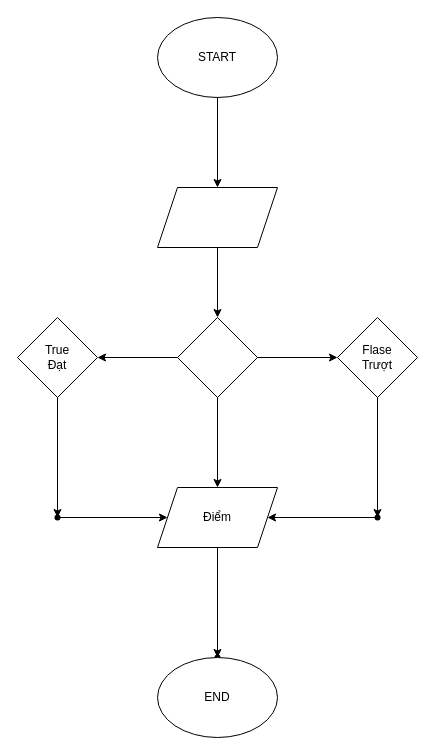
Image size: 435x755. Some labels were removed from this diagram. The box of each missing label's shape, as (x1, y1, x2, y2) in pixels:
Nhập điểm: (156, 186, 278, 248)
Điểm>5: (176, 316, 258, 398)
